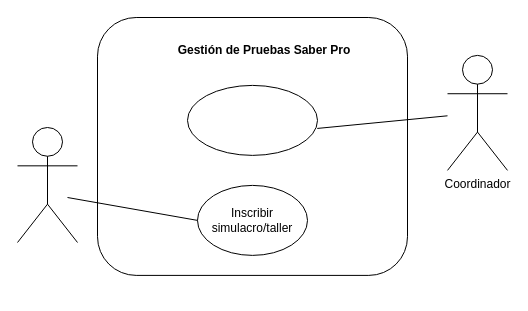
Some shapes in this 528 by 311 pixel diagram are drawn without their labels. The shapes that lost their labels are listed below. From the top down, each one's box as (x1, y1, x2, y2) in pixels, then its label:
(186, 84, 318, 155): Programar simulacro/taller
(16, 126, 78, 242): Estudiante
